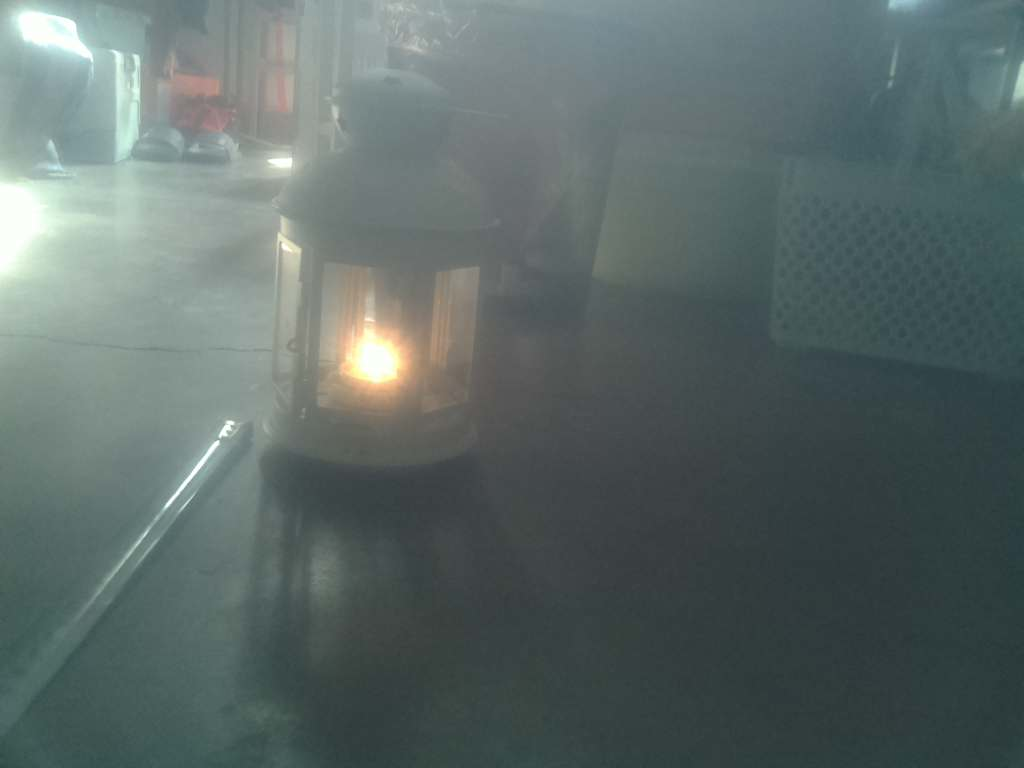fire: (326, 311, 429, 415)
